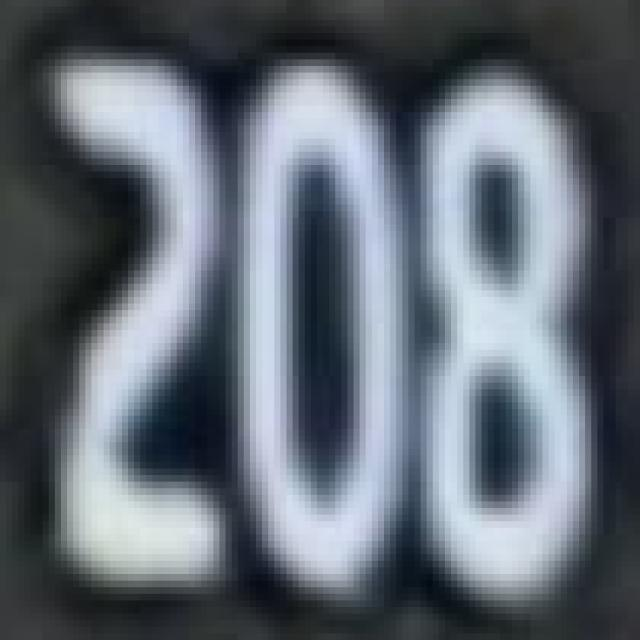character: (32, 48, 238, 608), (421, 59, 624, 605), (237, 53, 422, 612)
